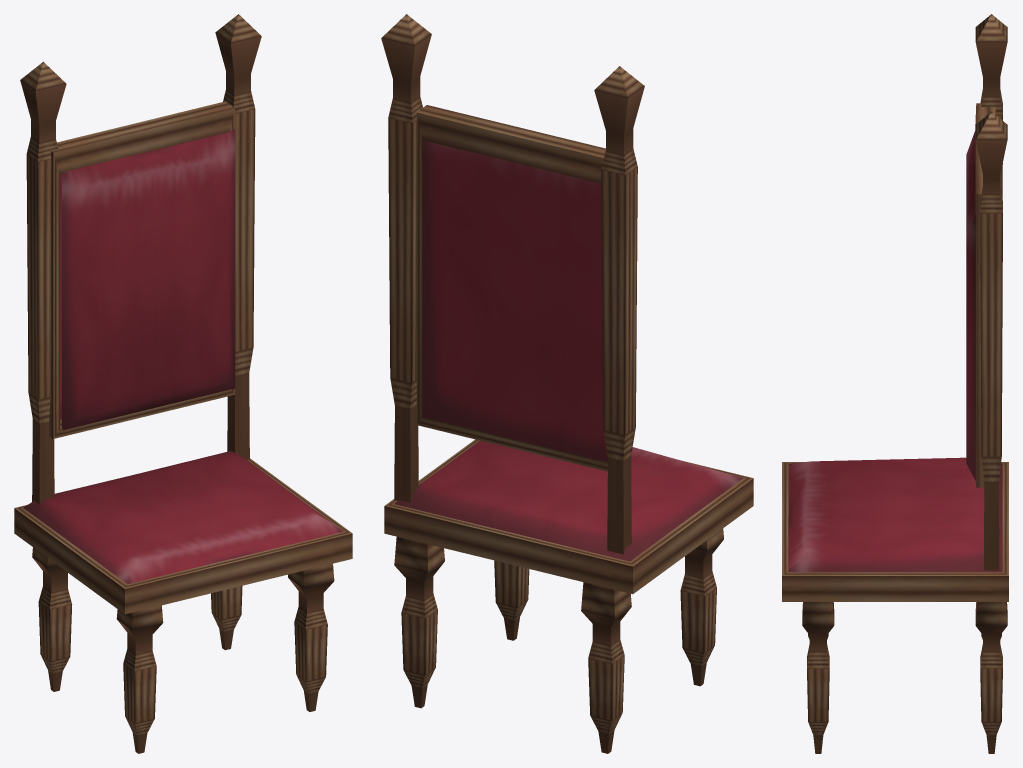
File: chair_fancy.fbx
3 views of the same model, side by side, from view 1: azimuth 30°, elevation 25°; view 2: azimuth 150°, elevation 25°; view 3: azimuth 270°, elevation 25° (orthographic). The views are drawn at different scales.
Visible parts, largest first — view 1: polySurface14, polySurface11, polySurface20, polySurface19, polySurface10, polySurface15, polySurface16, polySurface9, polySurface17, polySurface13, polySurface12, polySurface18; view 2: polySurface22, polySurface11, polySurface20, polySurface19, polySurface10, polySurface21, polySurface17, polySurface18, polySurface16, polySurface12, polySurface9, polySurface13; view 3: polySurface11, polySurface19, polySurface10, polySurface14, polySurface18, polySurface9, polySurface12, polySurface20, polySurface13, polySurface15.
Part boxes in pixels (box(x1,y1,x2,y2)): polySurface14: box(62, 129, 235, 430); polySurface11: box(23, 450, 343, 584); polySurface20: box(20, 61, 66, 504); polySurface19: box(215, 14, 261, 459); polySurface10: box(14, 508, 352, 614); polySurface15: box(53, 108, 234, 438); polySurface16: box(116, 605, 163, 753); polySurface9: box(288, 563, 334, 711); polySurface17: box(32, 547, 72, 691); polySurface13: box(49, 101, 234, 438); polySurface12: box(14, 458, 352, 588); polySurface18: box(211, 585, 242, 650); polySurface22: box(422, 140, 607, 461); polySurface11: box(394, 440, 743, 561); polySurface20: box(594, 66, 644, 554); polySurface19: box(381, 14, 431, 502); polySurface10: box(384, 478, 753, 593); polySurface21: box(416, 112, 607, 471); polySurface17: box(581, 582, 631, 753); polySurface18: box(394, 536, 444, 708); polySurface16: box(680, 528, 723, 686); polySurface12: box(385, 439, 753, 566); polySurface9: box(494, 560, 529, 640); polySurface13: box(417, 105, 605, 157); polySurface11: box(788, 457, 1002, 572); polySurface19: box(975, 111, 1007, 570); polySurface10: box(782, 576, 1008, 601); polySurface14: box(966, 131, 975, 480); polySurface18: box(975, 602, 1007, 753); polySurface9: box(802, 602, 834, 753); polySurface12: box(782, 462, 1008, 575); polySurface20: box(975, 14, 1007, 198); polySurface13: box(976, 103, 995, 487); polySurface15: box(975, 106, 976, 486).
Size of the model in its own units: 184 by 479 by 152.
Materials: 1 (1 with a texture image).
